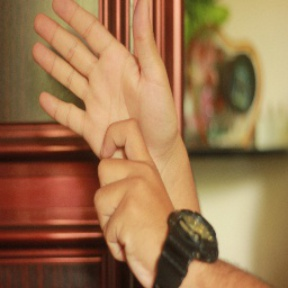R: (32, 1, 195, 260)
